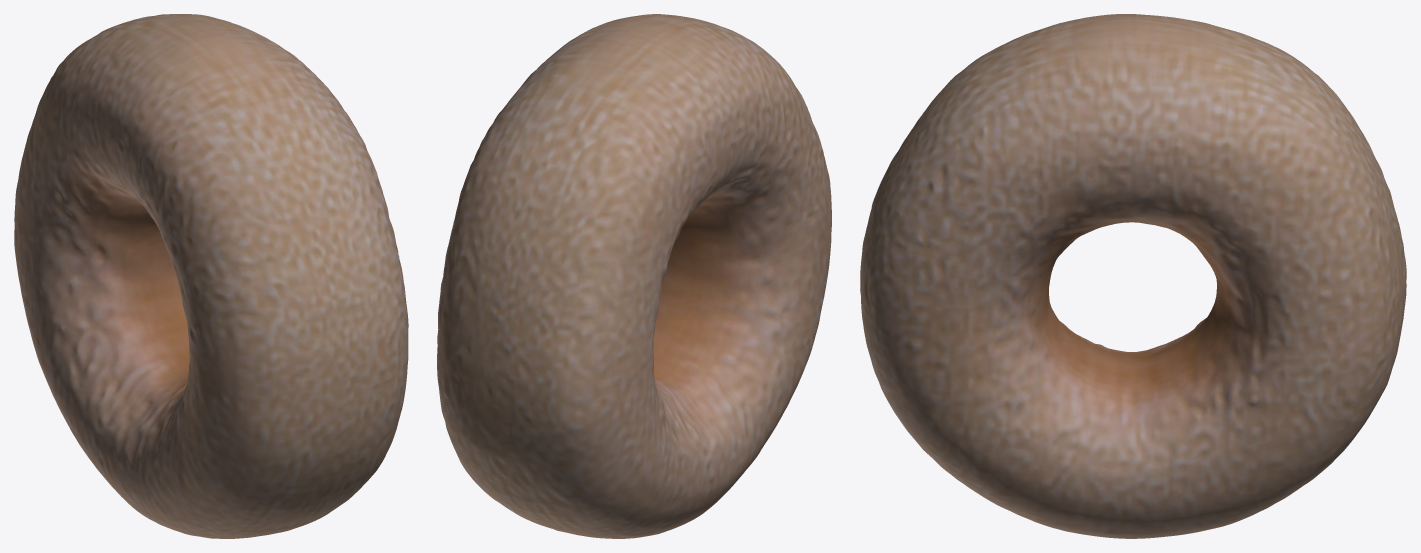
The model's file is 0b1559943ca0_sugar_donut__3d_ass.fbx.
3 views of the same model, side by side, from view 1: azimuth 30°, elevation 25°; view 2: azimuth 150°, elevation 25°; view 3: azimuth 270°, elevation 25° (orthographic). The views are drawn at different scales.
Visible parts, largest first — view 1: high_poly; view 2: high_poly; view 3: high_poly.
Part boxes in pixels (x1,y1,x2,y2): high_poly: (14, 14, 408, 538); high_poly: (437, 14, 831, 538); high_poly: (860, 14, 1406, 538).
Size of the model in its own units: 43.47 by 98.88 by 100.
